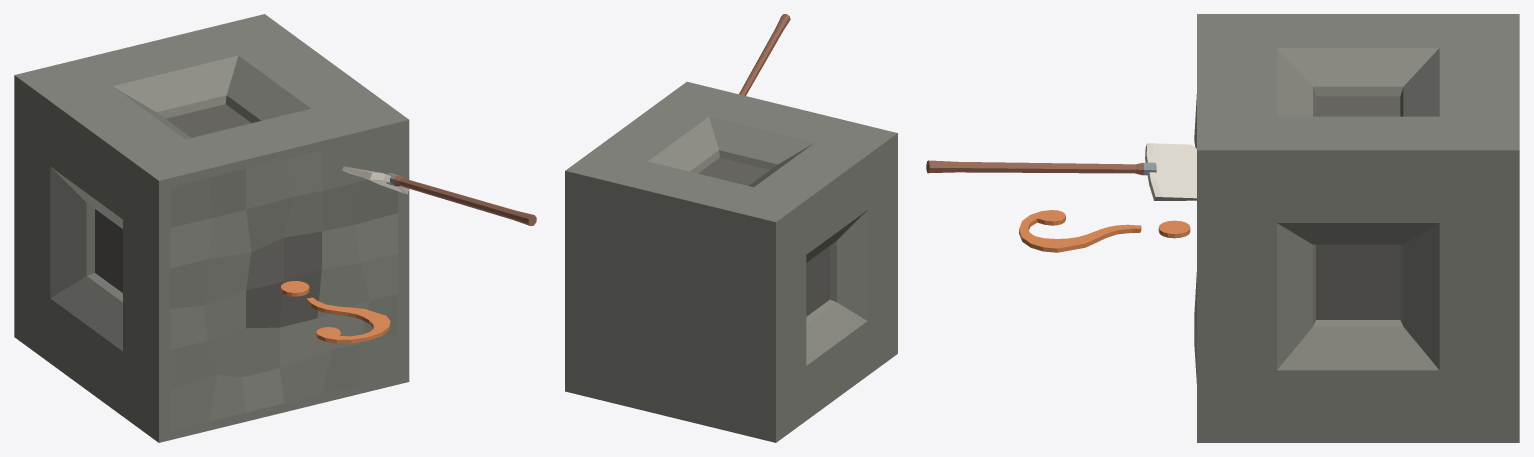
The model's file is dig.glb.
3 renders of one model, left to right at view 1: azimuth 30°, elevation 25°; view 2: azimuth 150°, elevation 25°; view 3: azimuth 270°, elevation 25°, orthographic. The views are drawn at different scales.
Visible parts, largest first — view 1: Cube.001; view 2: Cube.001; view 3: Cube.001.
Boxes of the visible parts, bbox=[...] form: Cube.001: bbox=[14, 14, 536, 442]; Cube.001: bbox=[565, 14, 897, 442]; Cube.001: bbox=[926, 14, 1519, 442].
Size of the model in its own units: 1.03 by 1 by 1.84.
Materials: 1 (1 with a texture image).
